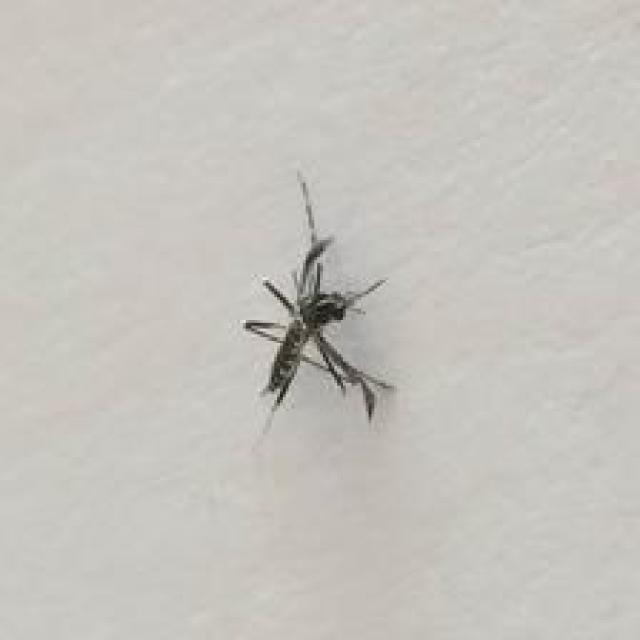Aedes albopictus: (241, 169, 396, 434)
